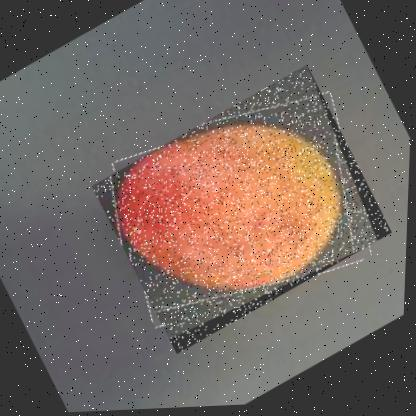mango: (86, 64, 399, 361)
